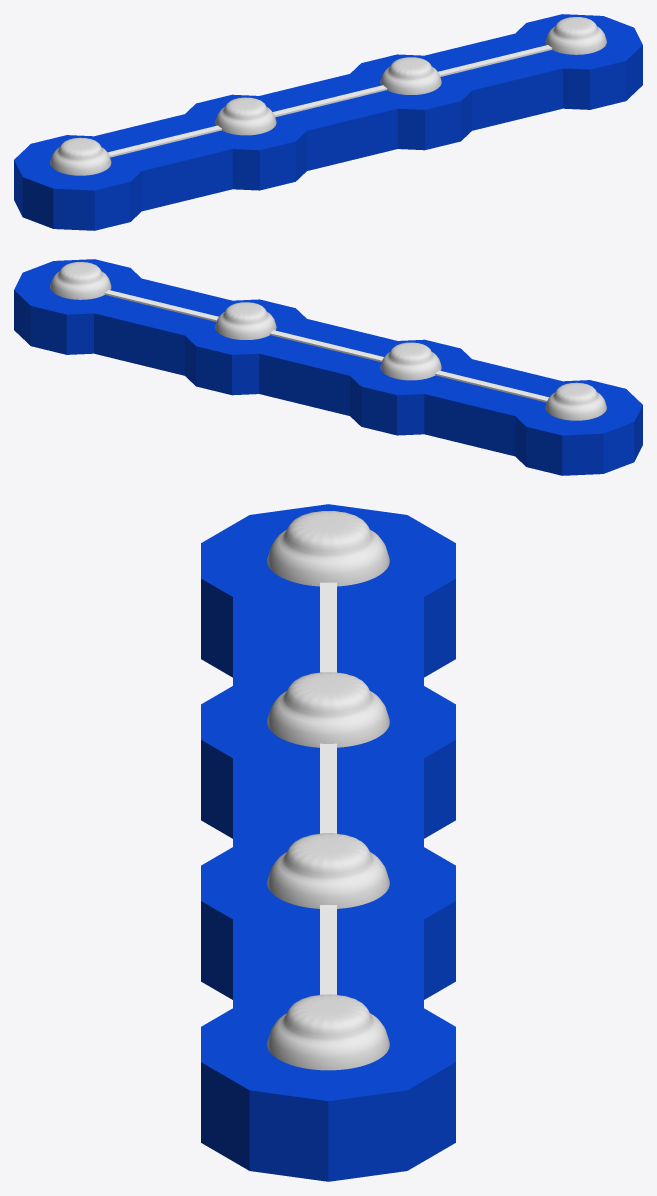
The model's file is 4BarConnector.fbx.
The picture shows the model from 3 angles, top to bottom: view 1: azimuth 30°, elevation 25°; view 2: azimuth 150°, elevation 25°; view 3: azimuth 270°, elevation 25°; orthographic projection. The views are drawn at different scales.
Parts seen in each view (by area): view 1: pCube1, pCylinder8, pCylinder1, pCylinder2, pCylinder5, pCylinder7, pCylinder6, pCylinder4, pCylinder3, pCube3, pCube4, pCube2; view 2: pCube1, pCylinder8, pCylinder1, pCylinder2, pCylinder5, pCylinder7, pCylinder6, pCylinder4, pCylinder3, pCube3, pCube4, pCube2; view 3: pCube1, pCylinder1, pCylinder8, pCylinder2, pCylinder5, pCylinder4, pCylinder7, pCylinder3, pCylinder6, pCube4, pCube3, pCube2.
Boxes of the visible parts, x1,y1,x2,y2 form: pCube1: (57, 24, 599, 211); pCylinder8: (14, 135, 147, 230); pCylinder1: (510, 14, 642, 109); pCylinder2: (344, 54, 477, 150); pCylinder5: (185, 94, 308, 190); pCylinder7: (50, 137, 111, 175); pCylinder6: (215, 97, 276, 135); pCylinder4: (545, 17, 606, 54); pCylinder3: (380, 57, 441, 94); pCube3: (273, 85, 387, 117); pCube4: (107, 125, 221, 157); pCube2: (438, 45, 552, 76); pCube1: (57, 269, 599, 456); pCylinder8: (515, 380, 642, 475); pCylinder1: (14, 259, 144, 354); pCylinder2: (180, 299, 306, 395); pCylinder5: (344, 339, 471, 435); pCylinder7: (545, 382, 606, 420); pCylinder6: (380, 342, 441, 380); pCylinder4: (50, 262, 111, 299); pCylinder3: (215, 302, 276, 339); pCube3: (269, 330, 383, 362); pCube4: (435, 370, 549, 402); pCube2: (104, 290, 218, 321); pCube1: (233, 561, 423, 1044); pCylinder1: (201, 989, 455, 1181); pCylinder8: (201, 504, 455, 677); pCylinder2: (201, 847, 455, 999); pCylinder5: (201, 678, 455, 838); pCylinder4: (267, 994, 389, 1070); pCylinder7: (267, 511, 389, 586); pCylinder3: (267, 833, 389, 908); pCylinder6: (267, 672, 389, 747); pCube4: (320, 582, 336, 672); pCube3: (320, 743, 336, 833); pCube2: (320, 905, 336, 994).
Bounding box in the file's own units: 7.41 × 0.7857 × 1.34.
